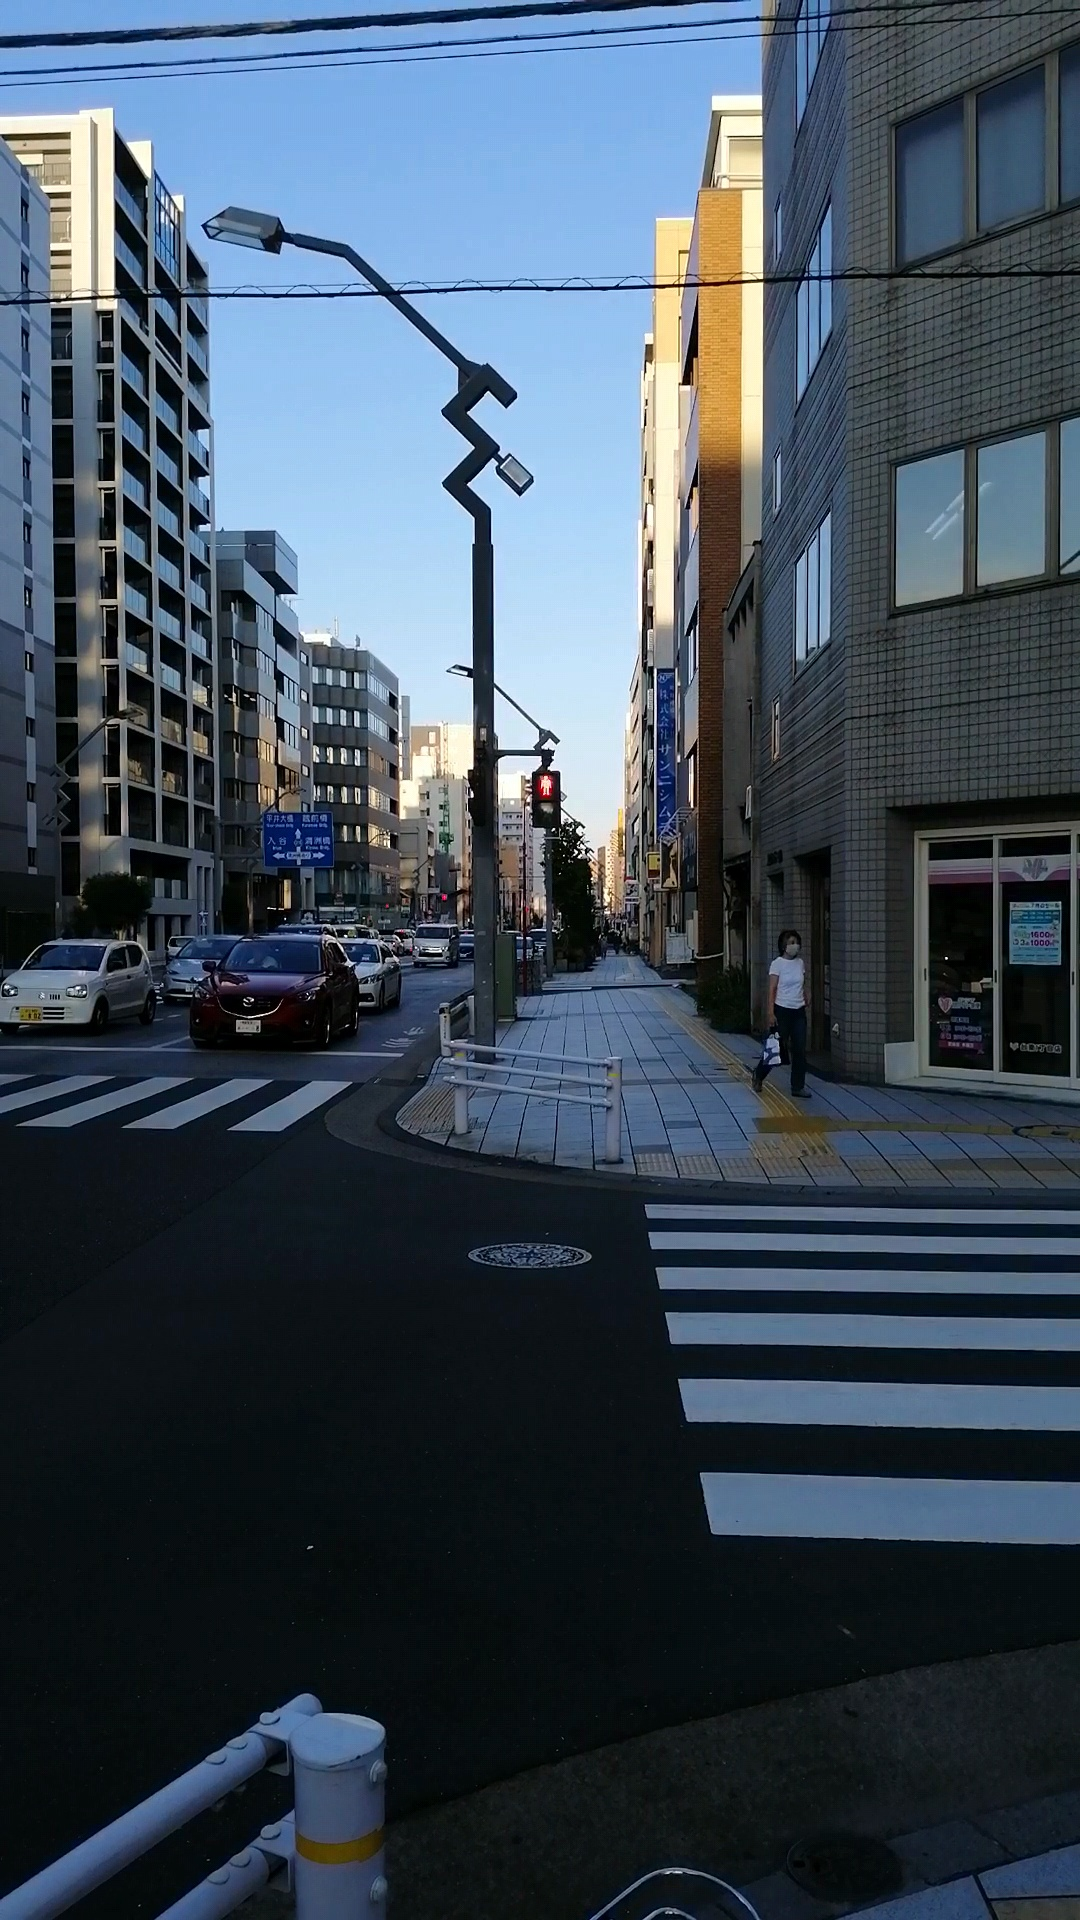red: (530, 769, 562, 828)
